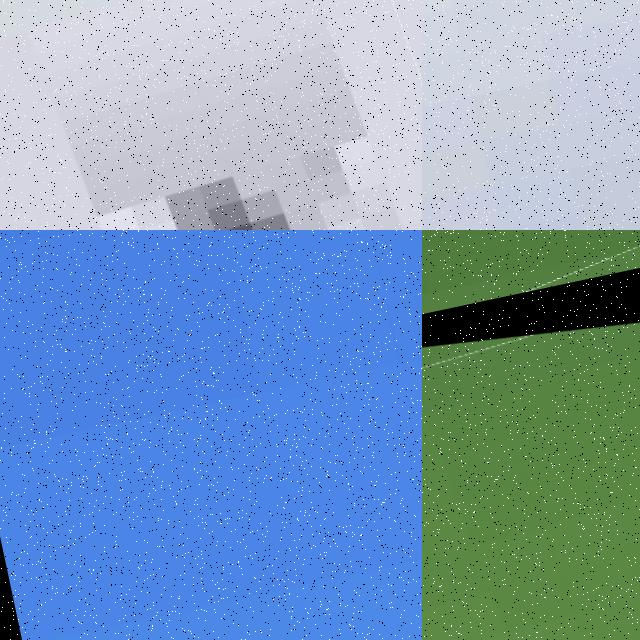0: (0, 0, 422, 230)
drone: (422, 252, 640, 640)
